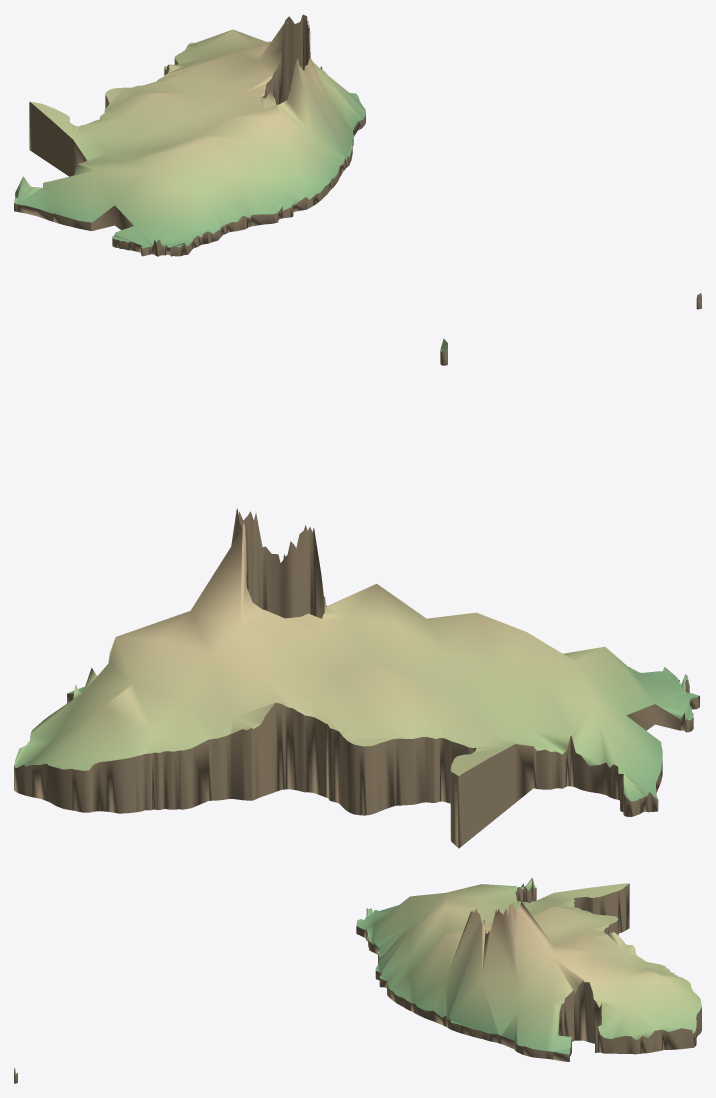
Rendered from ZAF.glb.
The picture shows the model from 3 angles, top to bottom: view 1: azimuth 30°, elevation 25°; view 2: azimuth 150°, elevation 25°; view 3: azimuth 270°, elevation 25°; orthographic projection. The views are drawn at different scales.
Parts seen in each view (by area): view 1: ZAF; view 2: ZAF; view 3: ZAF.
Part boxes in pixels (bbox=[...]): ZAF: bbox=[14, 14, 701, 309]; ZAF: bbox=[14, 338, 699, 848]; ZAF: bbox=[14, 877, 701, 1083].
Size of the model in its own units: 1.03 by 0.3061 by 1.58.
